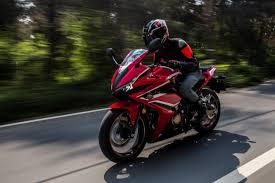moto: (98, 56, 234, 165)
person: (142, 19, 202, 83)
